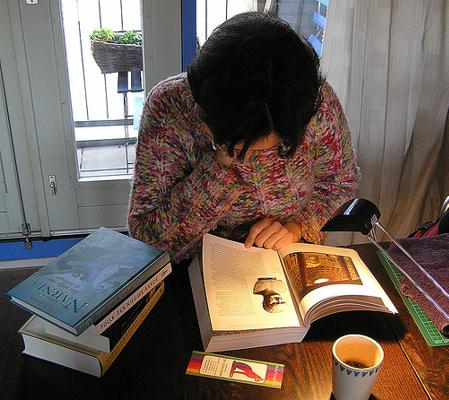person: (126, 13, 358, 262)
